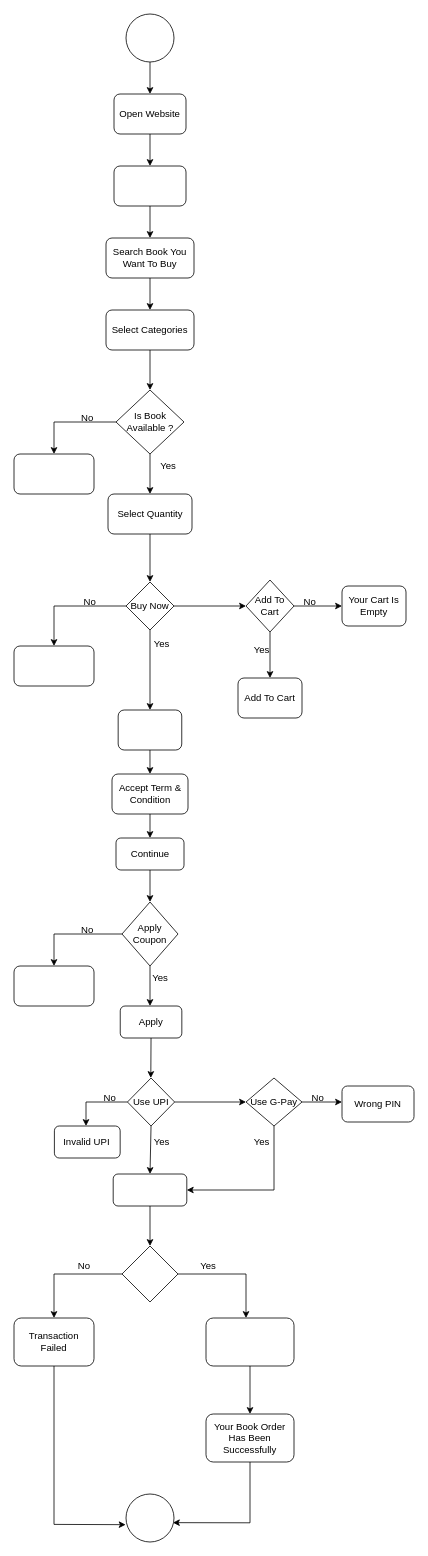
This 428x1556 diagram has some shape labels left out. Each missing label, with the box of its shape:
Book Is Out Of Stock: (13, 453, 94, 494)
Click On Payment Button: (117, 709, 182, 750)
Click To Payment: (112, 1173, 187, 1206)
END: (125, 1493, 174, 1542)
Login: (113, 165, 186, 206)
No Coupon Available: (13, 965, 94, 1006)
Pay ₹ xxxx: (121, 1245, 178, 1302)
Payment Successfully: (205, 1317, 294, 1366)
START: (125, 13, 174, 62)
This Book Is Out Of Stock: (13, 645, 94, 686)
